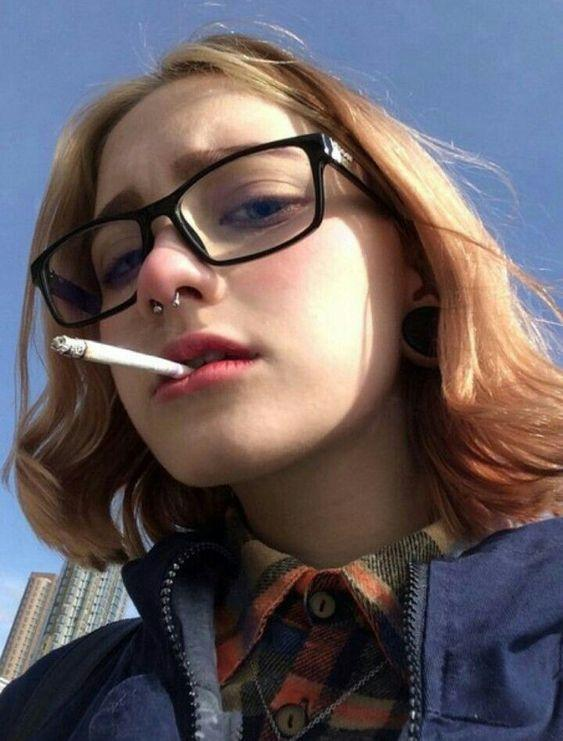cigarette: (49, 335, 195, 379)
